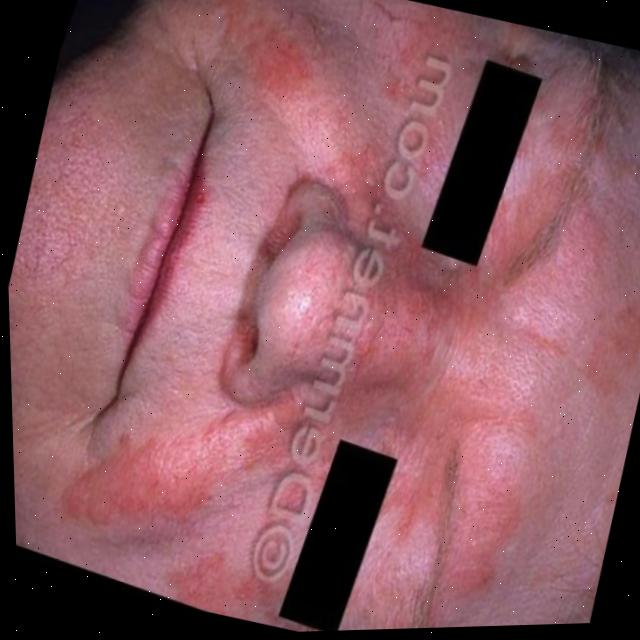Eczema: (32, 0, 640, 639)
